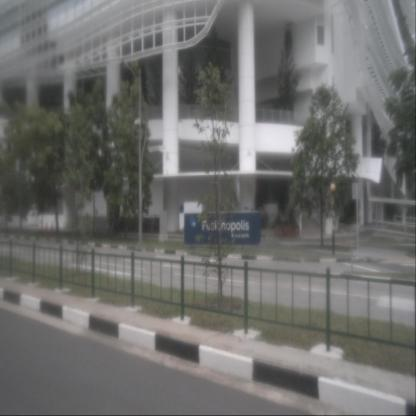cone: (50, 218, 55, 232), (44, 221, 48, 232)
